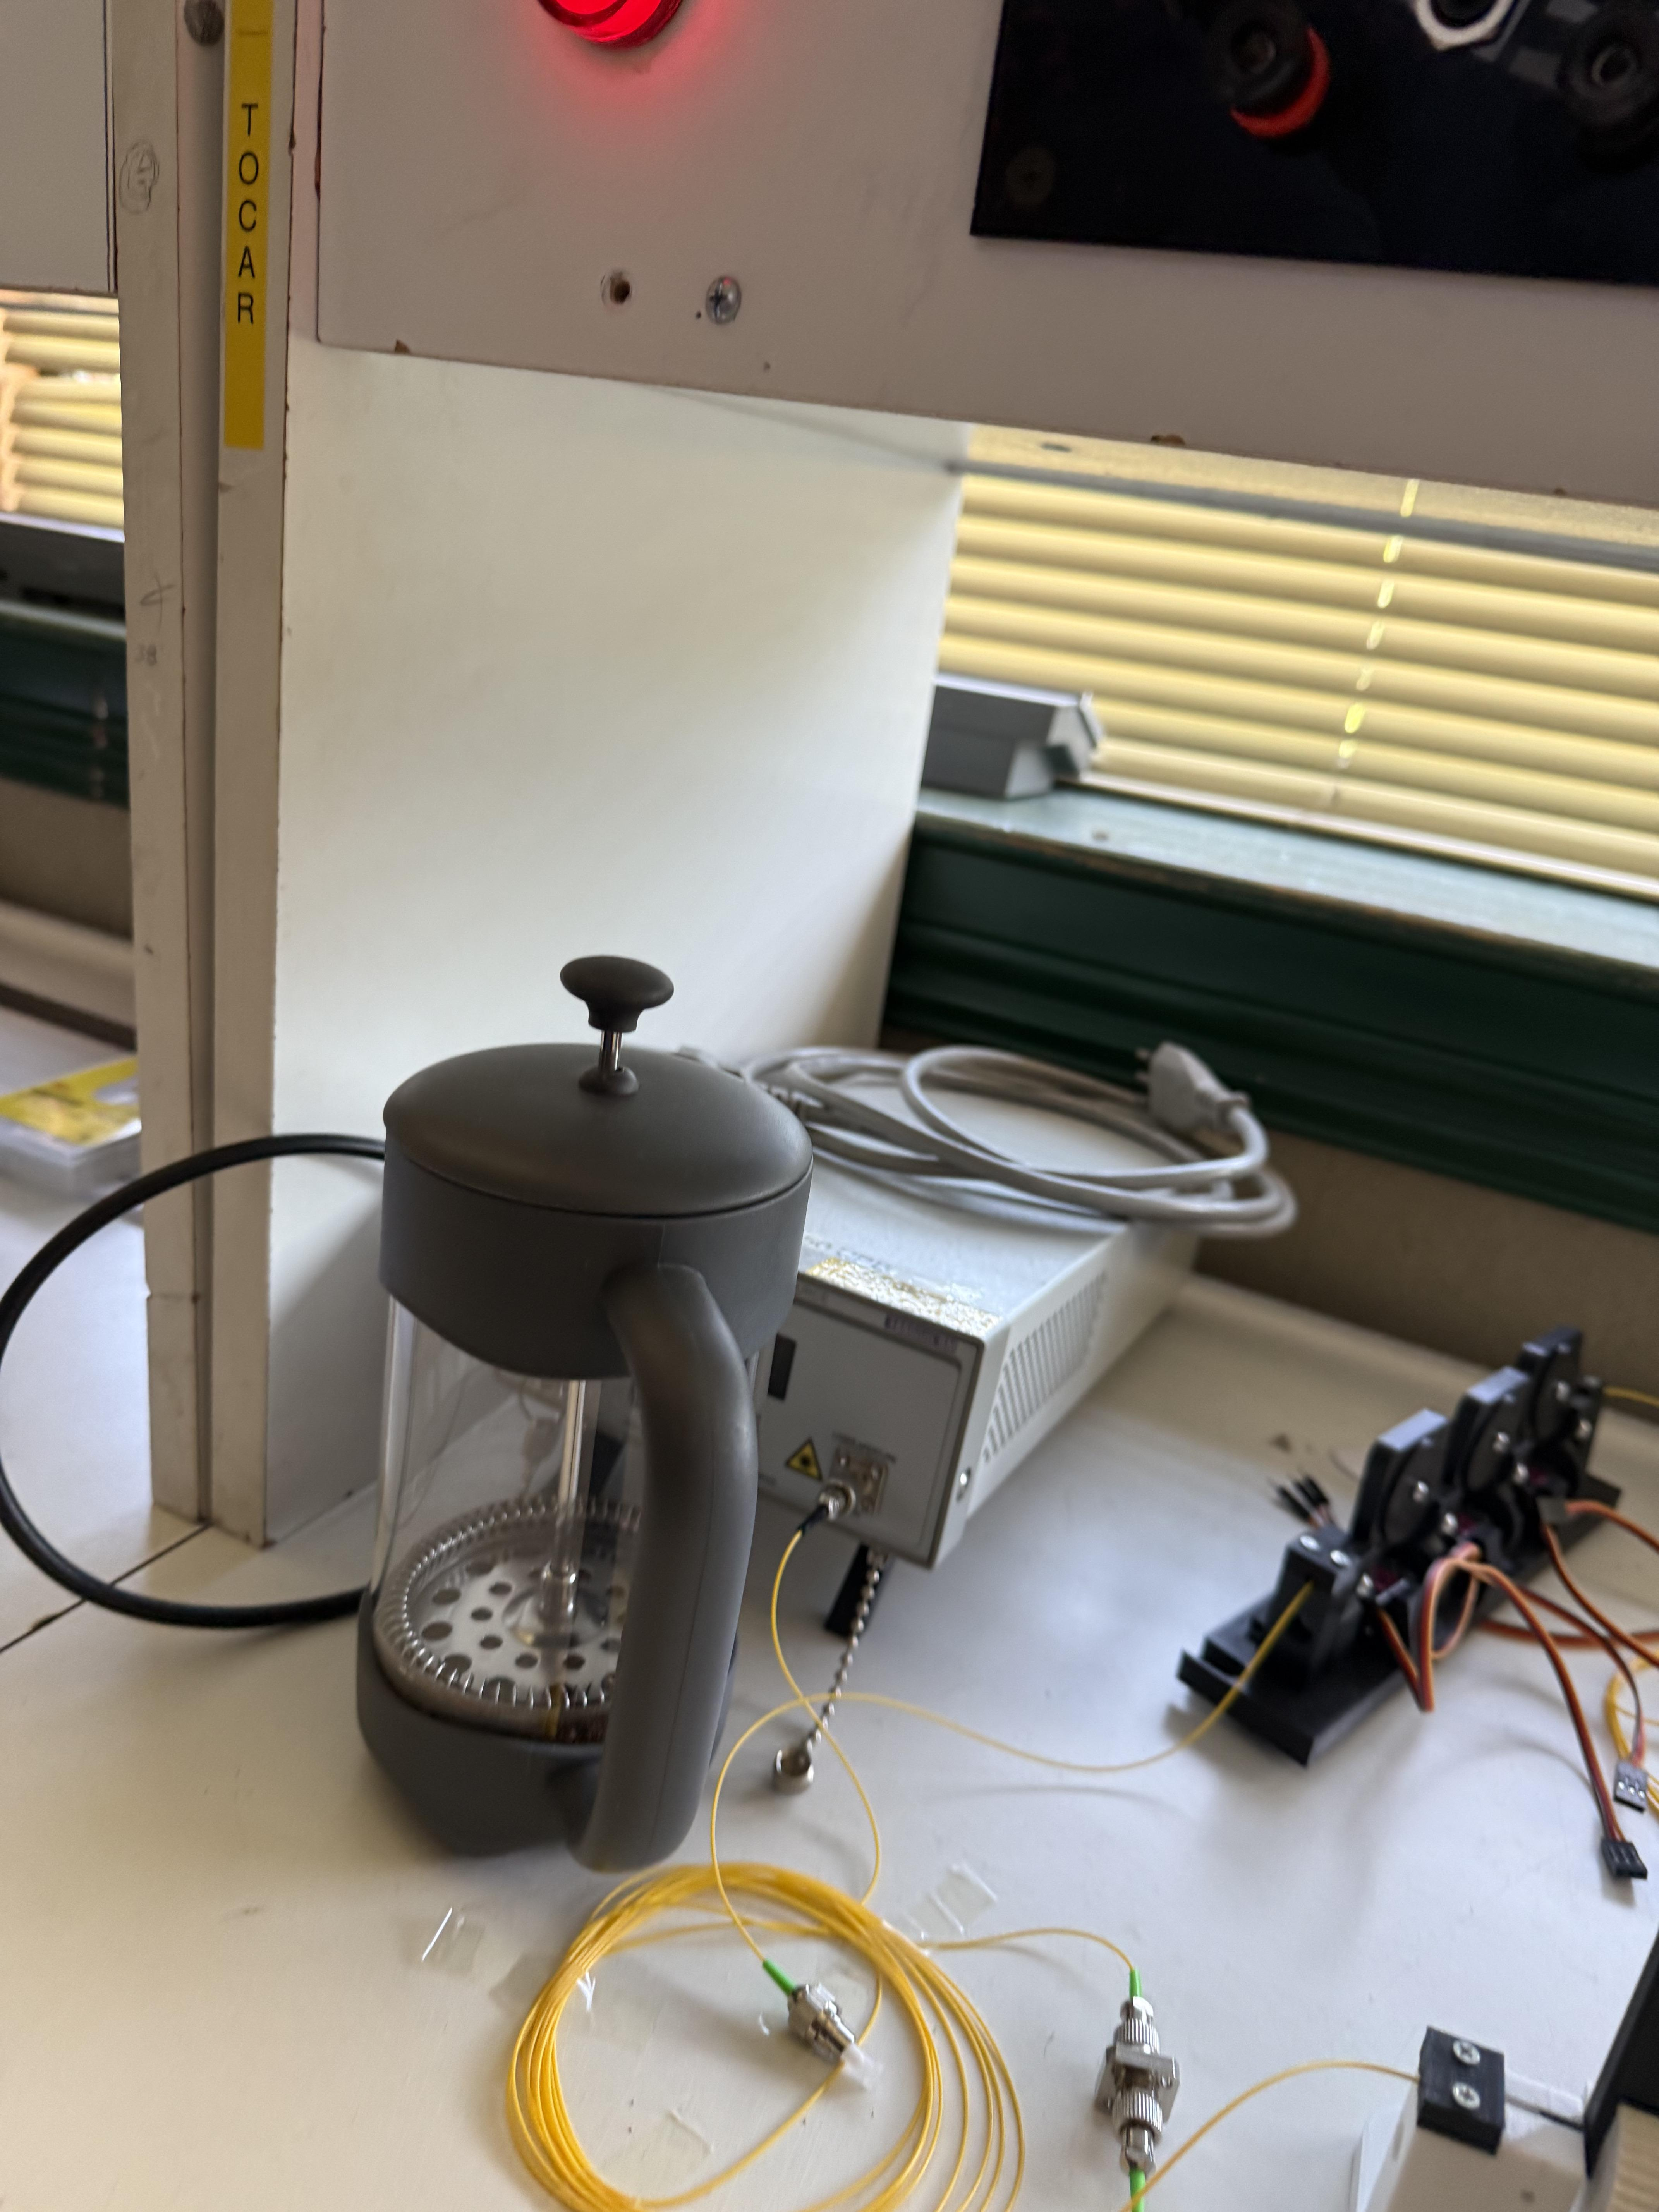fiber_cable: (383, 1735, 1068, 2212)
laser: (472, 1015, 1283, 1618)
paddle_polarization_controller: (1119, 1289, 1659, 1862)
